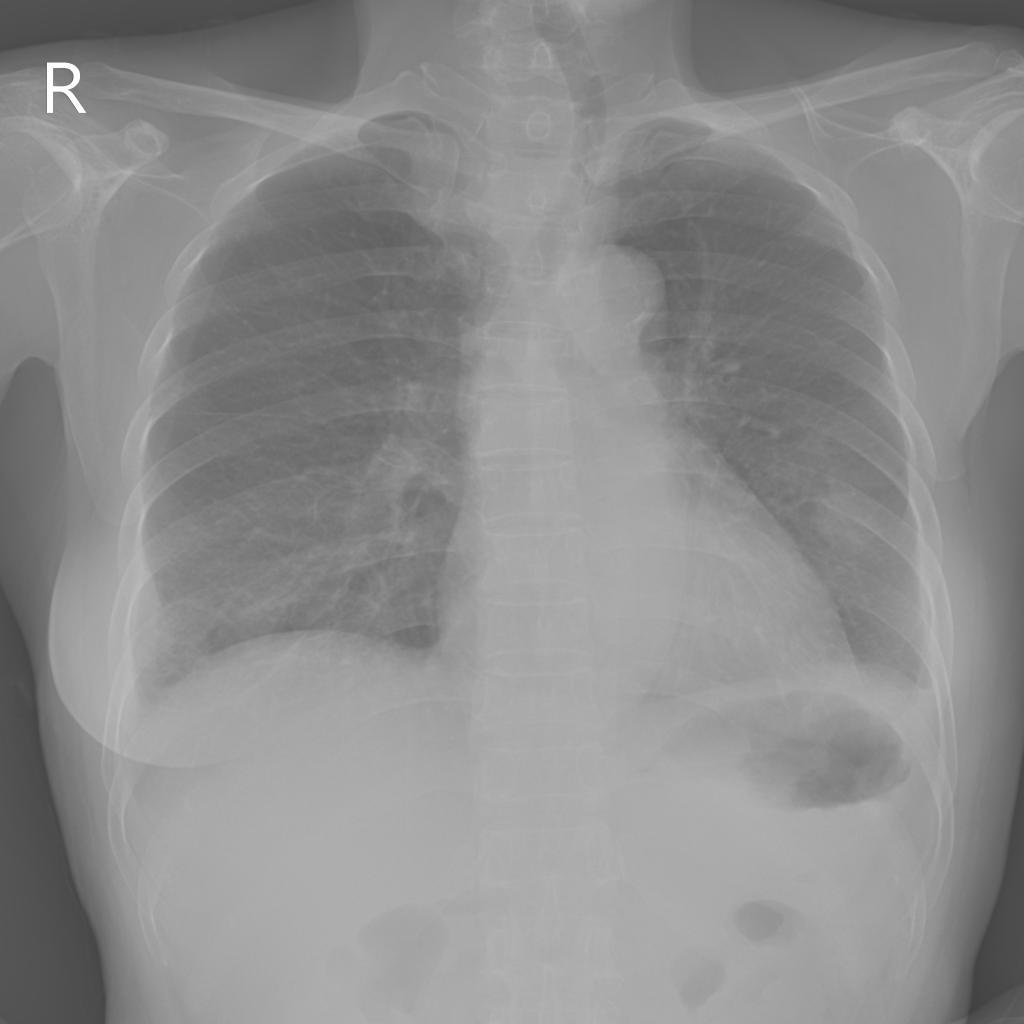Nodule: (817, 492, 887, 562)
